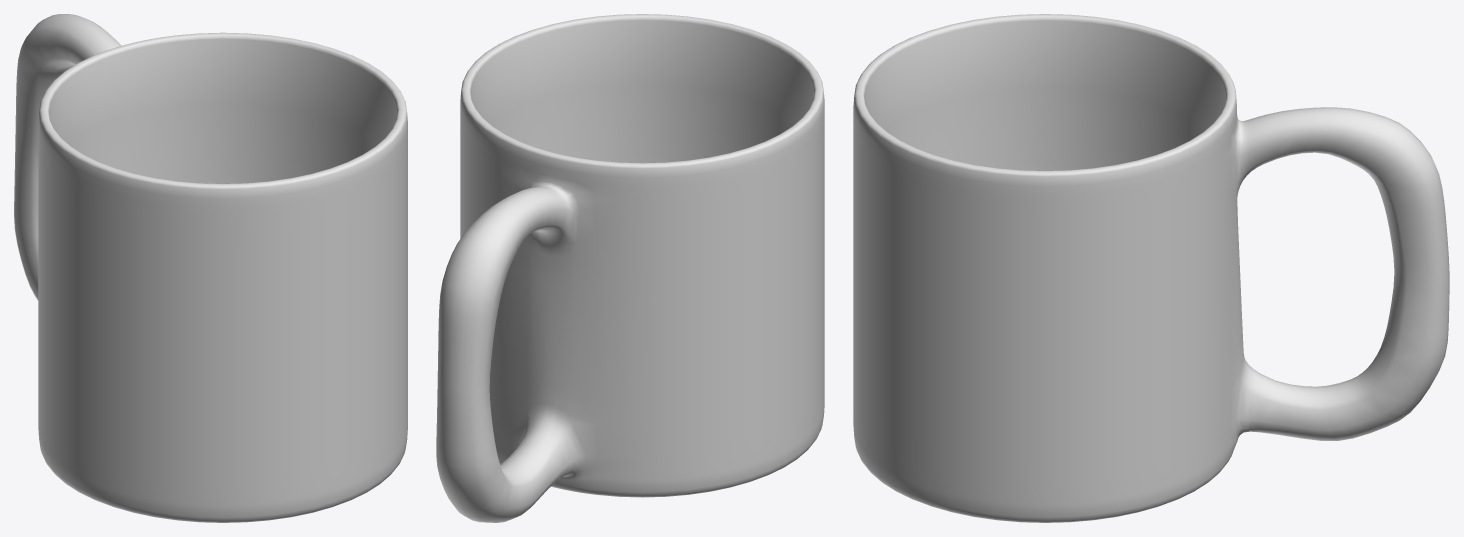
Rendered from Mug1Vol1.fbx.
3 views of the same model, side by side, from view 1: azimuth 30°, elevation 25°; view 2: azimuth 150°, elevation 25°; view 3: azimuth 270°, elevation 25° (orthographic). The views are drawn at different scales.
Visible parts, largest first — view 1: Mug1Vol1; view 2: Mug1Vol1; view 3: Mug1Vol1.
Part boxes in pixels (left/top/right/bottom): Mug1Vol1: left=14, top=14, right=407, bottom=522; Mug1Vol1: left=436, top=14, right=824, bottom=522; Mug1Vol1: left=853, top=14, right=1449, bottom=522.
Size of the model in its own units: 30.02 by 30.73 by 46.65.
